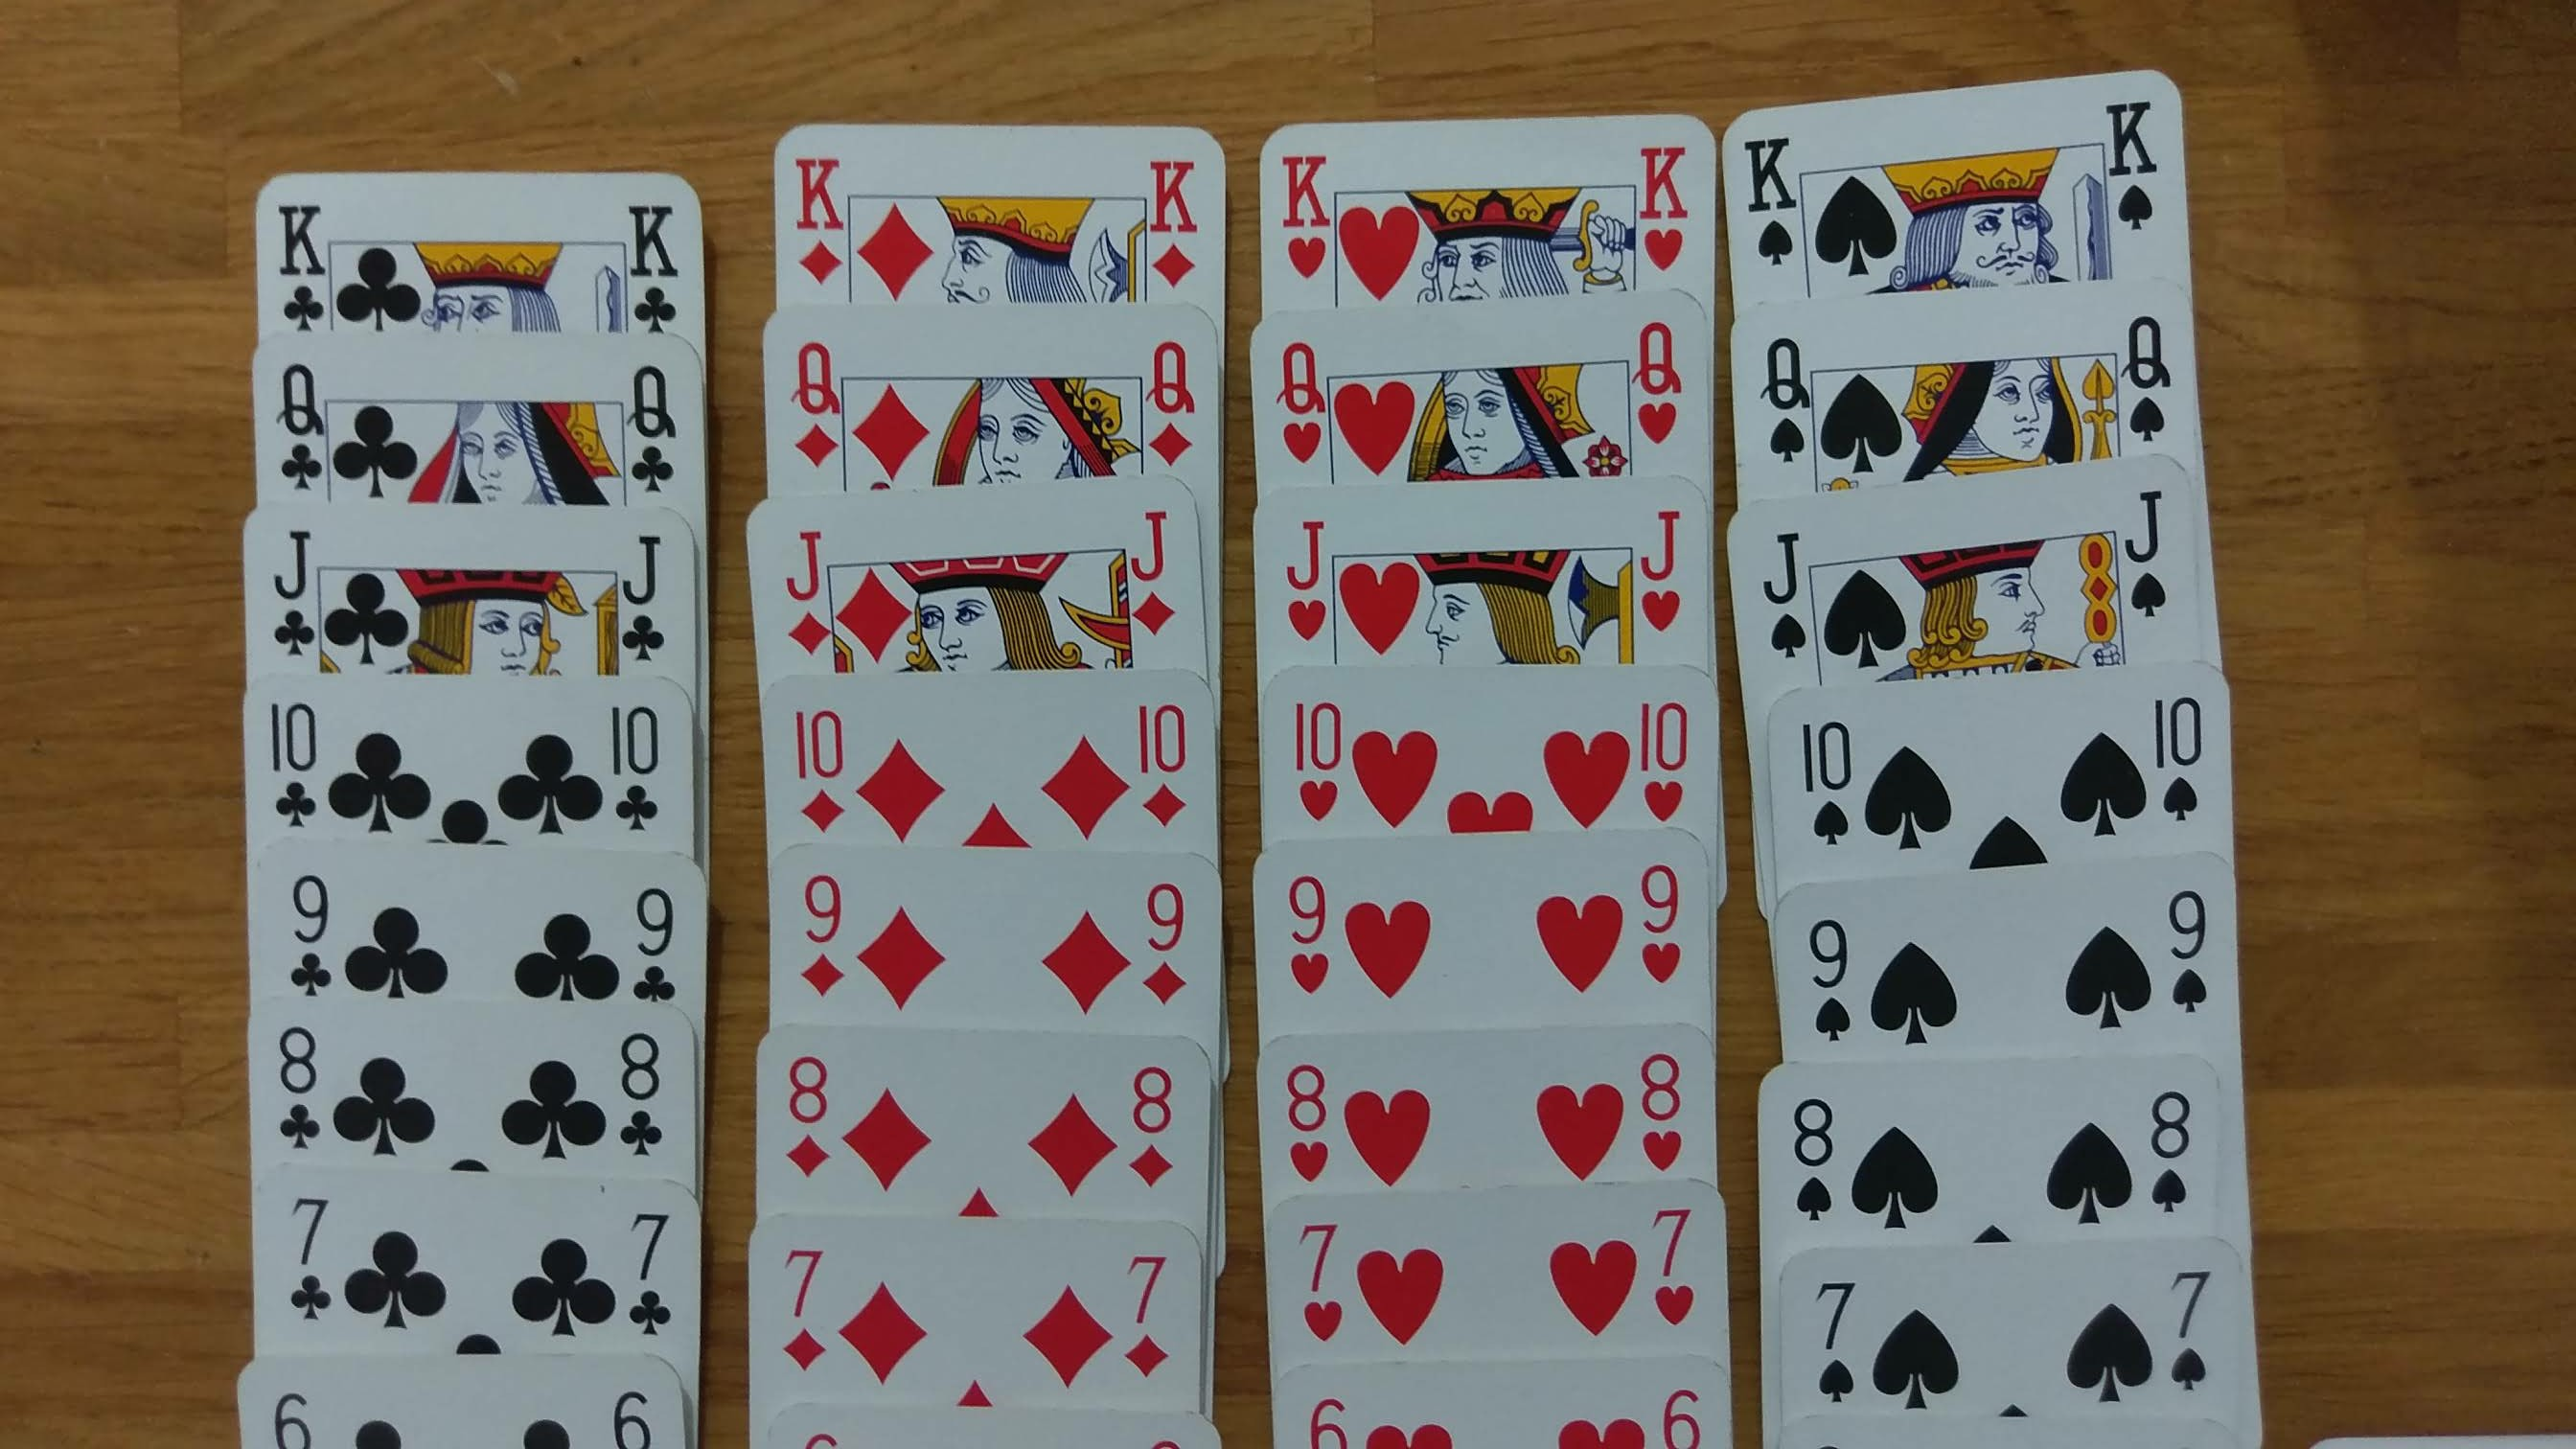10F: (594, 695, 672, 837), (253, 688, 327, 832)
7F: (607, 1194, 695, 1350), (274, 1178, 343, 1339)
8F: (605, 1016, 678, 1166), (260, 1008, 327, 1155)
9F: (264, 842, 359, 998), (617, 865, 688, 1026)
JF: (607, 518, 676, 685), (264, 513, 327, 665)
KF: (607, 188, 701, 352), (260, 188, 336, 361)
QF: (600, 345, 688, 502), (267, 350, 341, 502)
